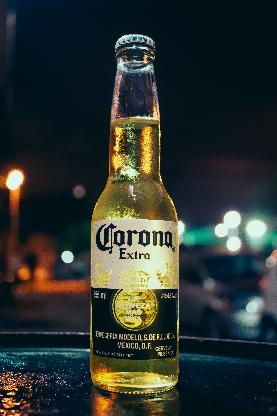Glass Bottle: (90, 33, 178, 392)
